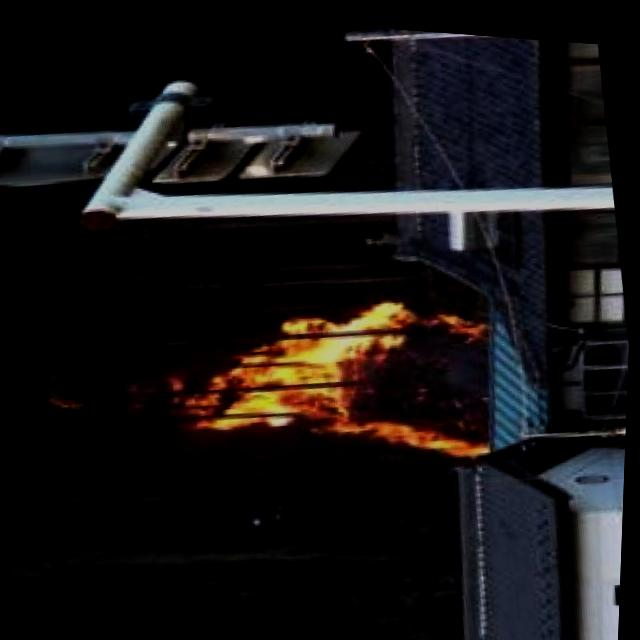helmet: (159, 269, 503, 480)
